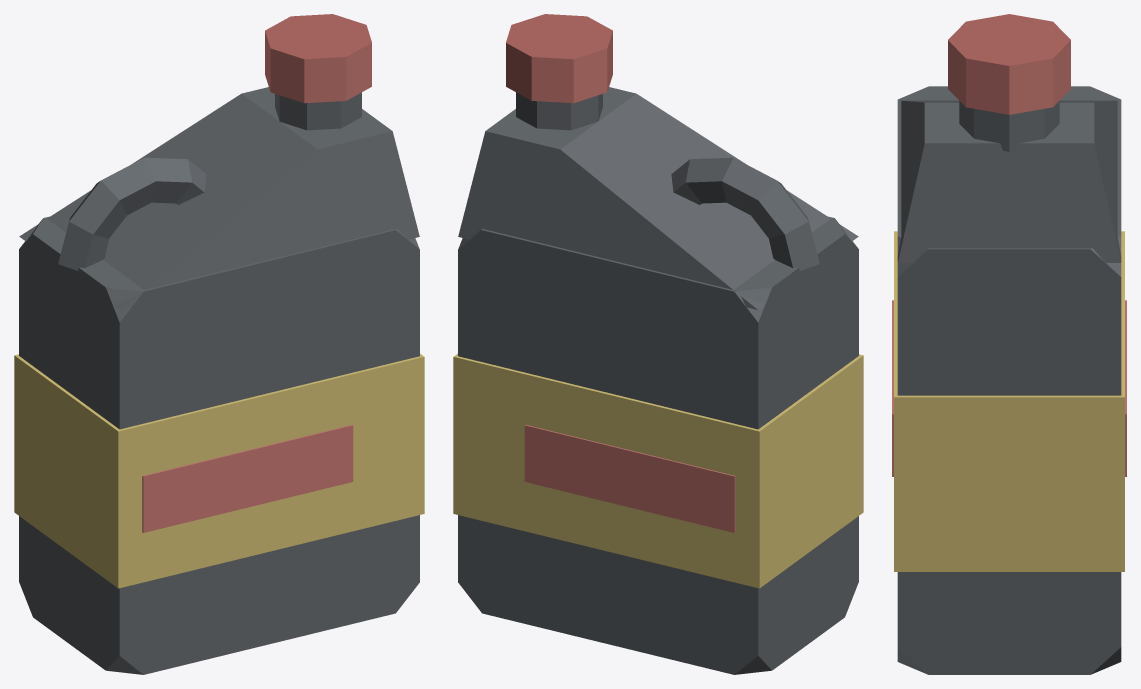
The model's file is litter_oil_container.glb.
3 views of the same model, side by side, from view 1: azimuth 30°, elevation 25°; view 2: azimuth 150°, elevation 25°; view 3: azimuth 270°, elevation 25° (orthographic). The views are drawn at different scales.
Parts seen in each view (by area): view 1: litter_oil_container; view 2: litter_oil_container; view 3: litter_oil_container.
Boxes of the visible parts, x1,y1,x2,y2 form: litter_oil_container: (14,14,424,674); litter_oil_container: (453,14,863,674); litter_oil_container: (892,14,1126,674).
Bounding box in the file's own units: 0.1048 × 0.174 × 0.061.
